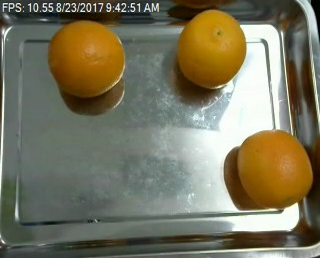Orange: (237, 129, 314, 209), (48, 19, 125, 95), (178, 8, 246, 88)
